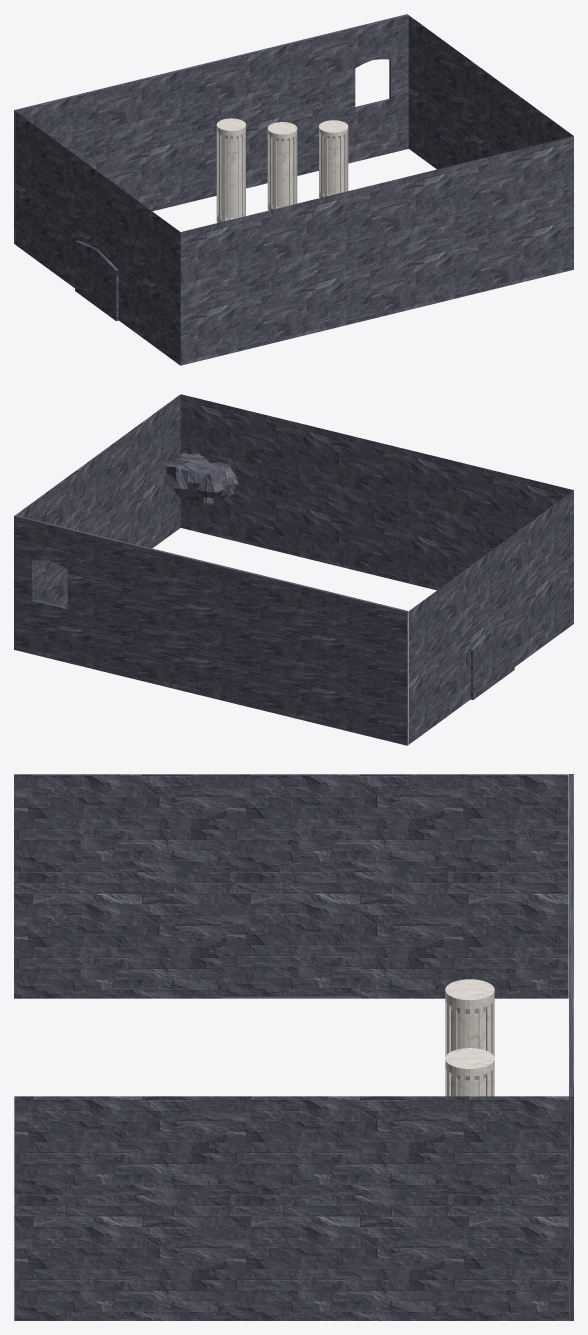
The model's file is SM_Foyer.fbx.
The picture shows the model from 3 angles, top to bottom: view 1: azimuth 30°, elevation 25°; view 2: azimuth 150°, elevation 25°; view 3: azimuth 270°, elevation 25°; orthographic projection. The views are drawn at different scales.
Parts seen in each view (by area): view 1: Wall Blocked door.001, Wall with door.001, Entrance wall with door.001, Back Wall.001, column Rubble 3 (to chandelier).001, column Rubble 2 ( to chandelier).001, column Rubble 1 (to chandelier).001; view 2: Wall with door.001, Wall Blocked door.001, Entrance wall with door.001, Back Wall.001, Rubble (Blocked Path).001; view 3: Back Wall.001, Entrance wall with door.001, column Rubble 3 (to chandelier).001, Wall with door.001, column Rubble 2 ( to chandelier).001.
Boxes of the visible parts, <box> form: Wall Blocked door.001: <box>180,136,573,365</box>; Wall with door.001: <box>14,14,408,244</box>; Entrance wall with door.001: <box>15,112,180,365</box>; Back Wall.001: <box>408,15,573,169</box>; column Rubble 3 (to chandelier).001: <box>216,118,245,222</box>; column Rubble 2 ( to chandelier).001: <box>267,122,297,210</box>; column Rubble 1 (to chandelier).001: <box>319,120,348,197</box>; Wall with door.001: <box>14,515,408,745</box>; Wall Blocked door.001: <box>180,394,573,590</box>; Entrance wall with door.001: <box>409,490,573,744</box>; Back Wall.001: <box>16,394,180,607</box>; Rubble (Blocked Path).001: <box>164,452,238,503</box>; Back Wall.001: <box>14,1096,568,1320</box>; Entrance wall with door.001: <box>14,774,568,998</box>; column Rubble 3 (to chandelier).001: <box>445,979,494,1057</box>; Wall with door.001: <box>569,774,573,1320</box>; column Rubble 2 ( to chandelier).001: <box>445,1048,494,1096</box>.
Size of the model in its own units: 775 by 250 by 565.
